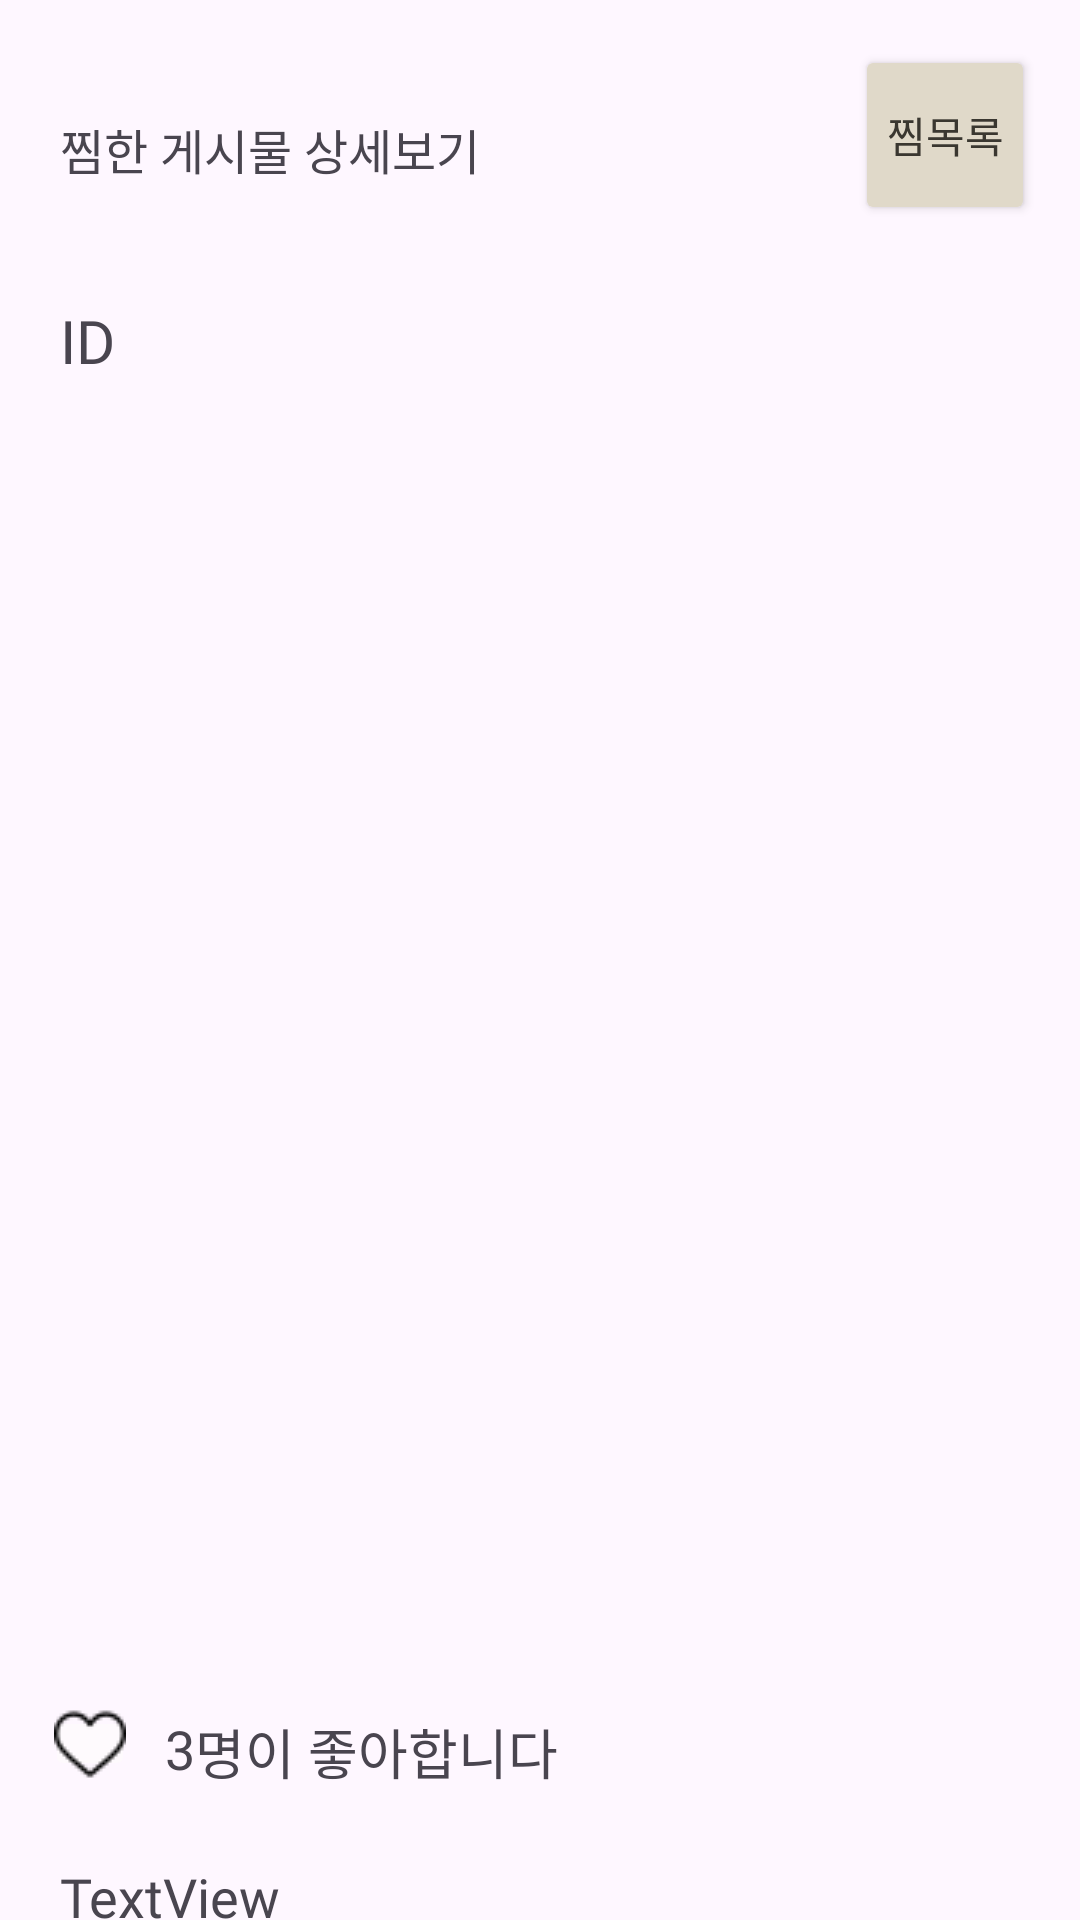

Where to tap for icons on this 1080×1920 app screen, as [x,y]:
heart off: [90,1744]
